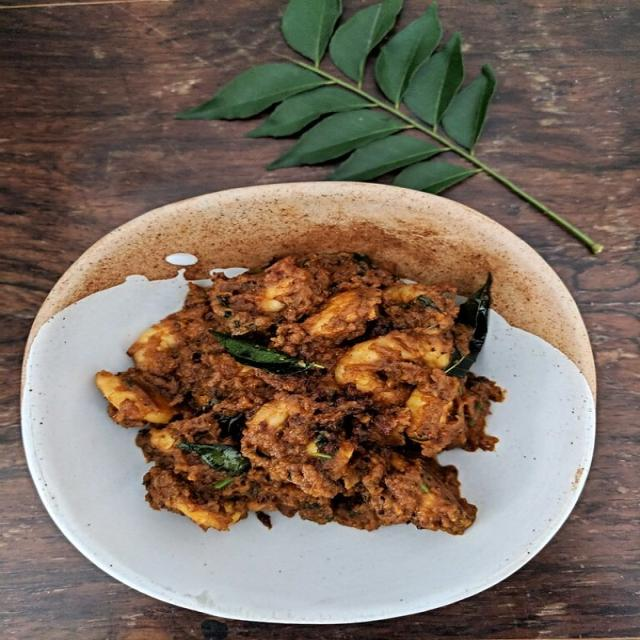prawn thokku: (71, 229, 533, 555)
